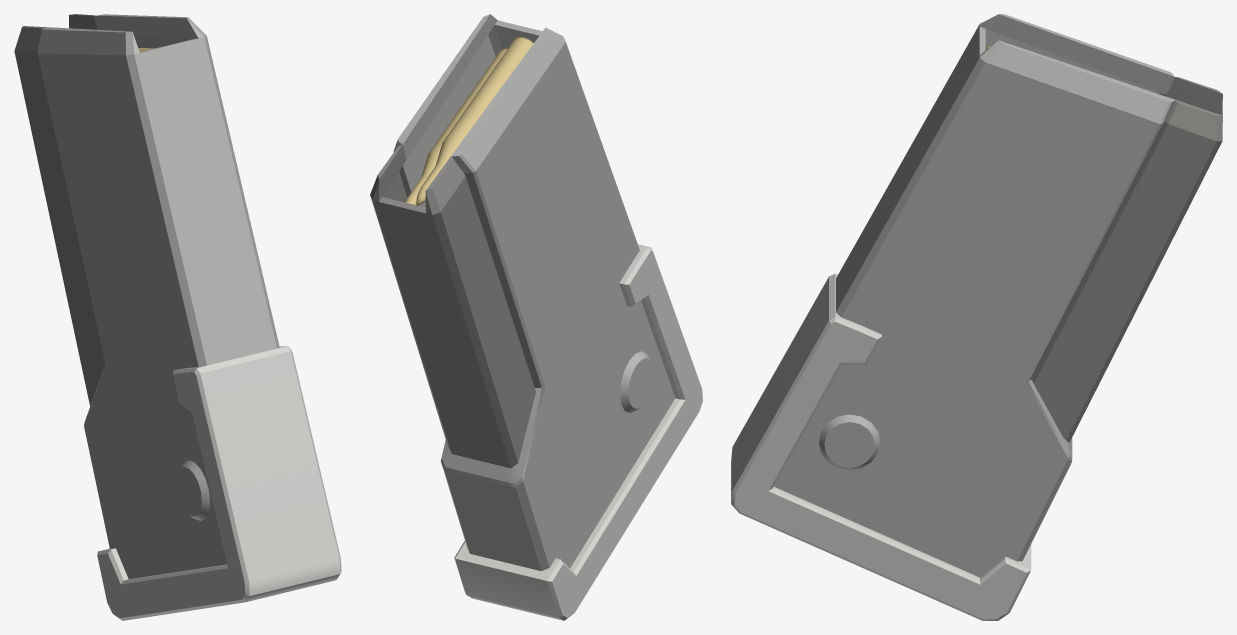
The model's file is MagazineModel.fbx.
3 views of the same model, side by side, from view 1: azimuth 30°, elevation 25°; view 2: azimuth 150°, elevation 25°; view 3: azimuth 270°, elevation 25° (orthographic). The views are drawn at different scales.
Parts seen in each view (by area): view 1: Magazine; view 2: Magazine; view 3: Magazine.
Part boxes in pixels (x1,y1,x2,y2): Magazine: [14, 14, 341, 620]; Magazine: [370, 14, 702, 620]; Magazine: [731, 14, 1222, 620].
Bounding box in the file's own units: 4.09 × 23.48 × 18.3.
